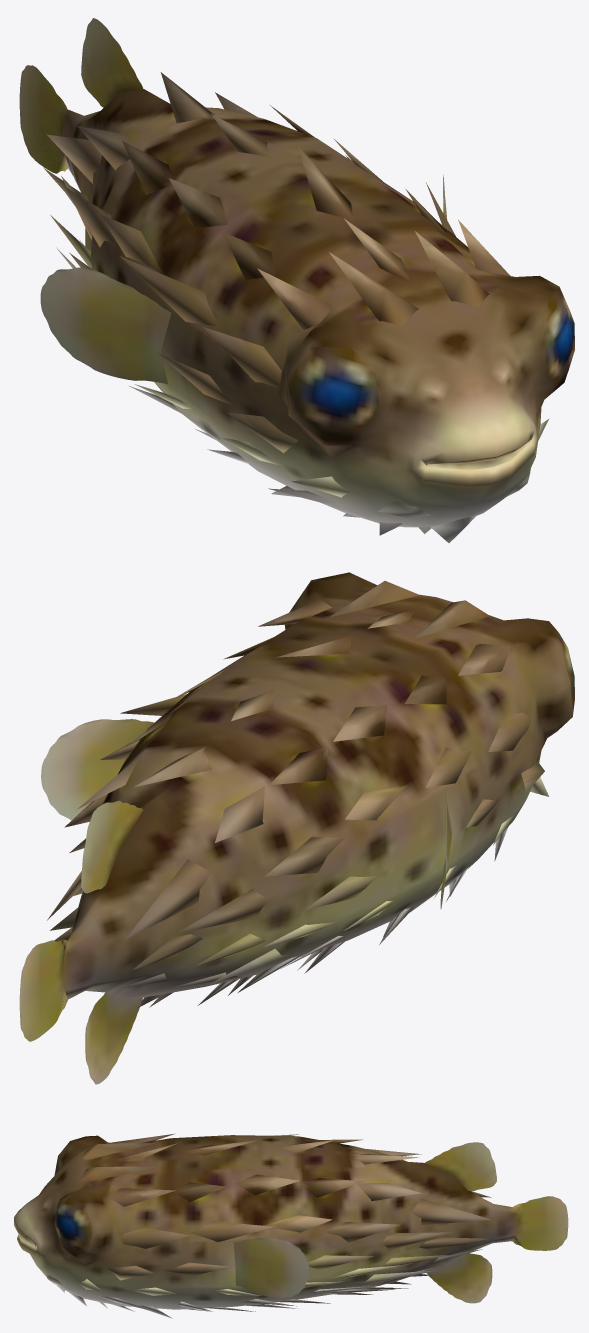
Rendered from blowfish.glb.
3 views of the same model, one above another, from view 1: azimuth 30°, elevation 25°; view 2: azimuth 150°, elevation 25°; view 3: azimuth 270°, elevation 25° (orthographic). The views are drawn at different scales.
Size of the model in its own units: 2.88 by 2.2 by 5.89.
Materials: 1 (1 with a texture image).
